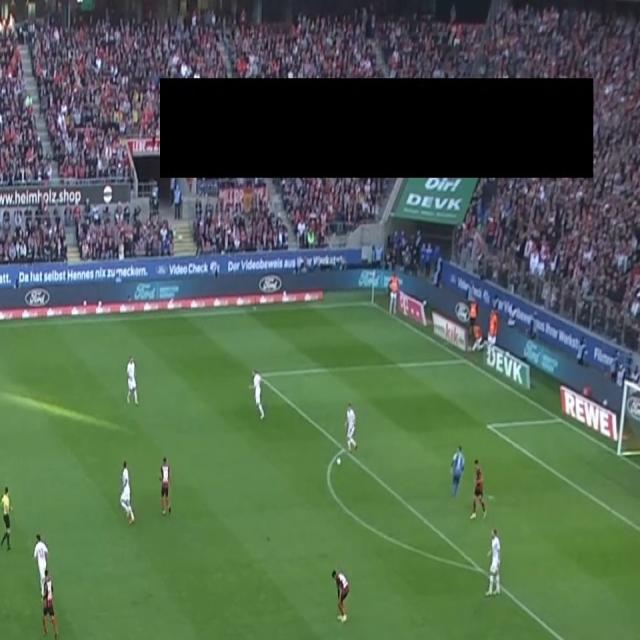ball: (337, 456, 341, 465)
